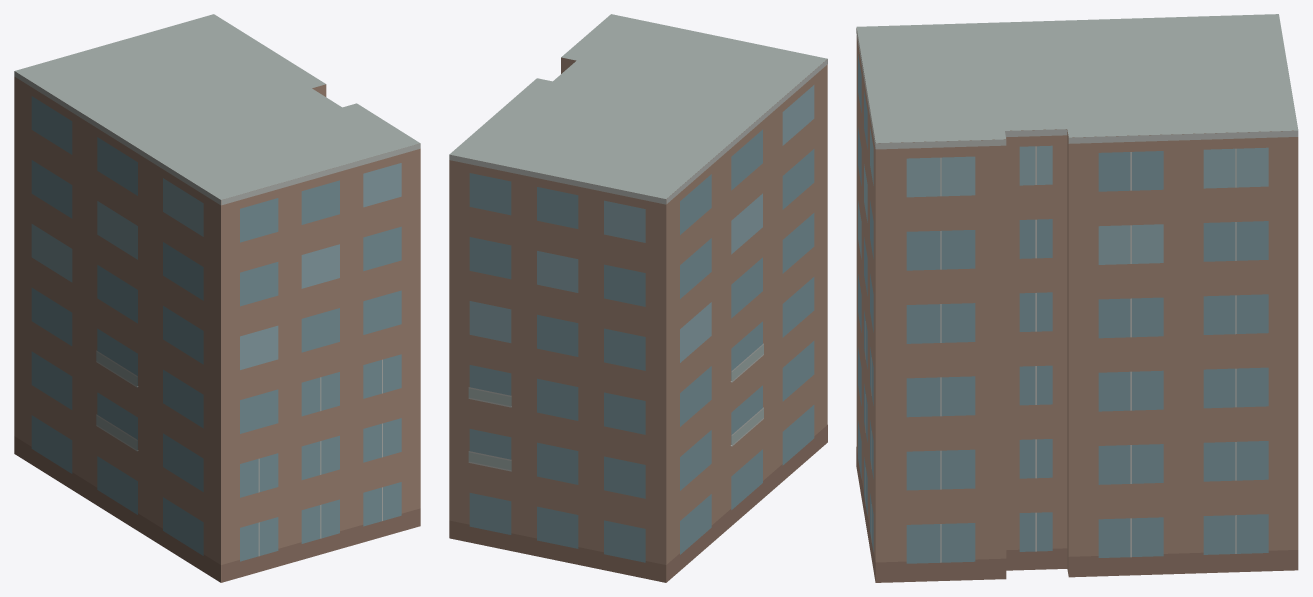
Rendered from survey-upis-32701611.glb.
3 renders of one model, left to right at view 1: azimuth 30°, elevation 25°; view 2: azimuth 150°, elevation 25°; view 3: azimuth 270°, elevation 25°, orthographic. The views are drawn at different scales.
Parts seen in each view (by area): view 1: survey-upis-32701611.tmp; view 2: survey-upis-32701611.tmp; view 3: survey-upis-32701611.tmp.
Boxes of the visible parts, x1,y1,x2,y2 form: survey-upis-32701611.tmp: [14, 14, 420, 582]; survey-upis-32701611.tmp: [449, 14, 827, 582]; survey-upis-32701611.tmp: [856, 14, 1298, 582].
Size of the model in its own units: 10.79 by 17.1 by 15.59.
